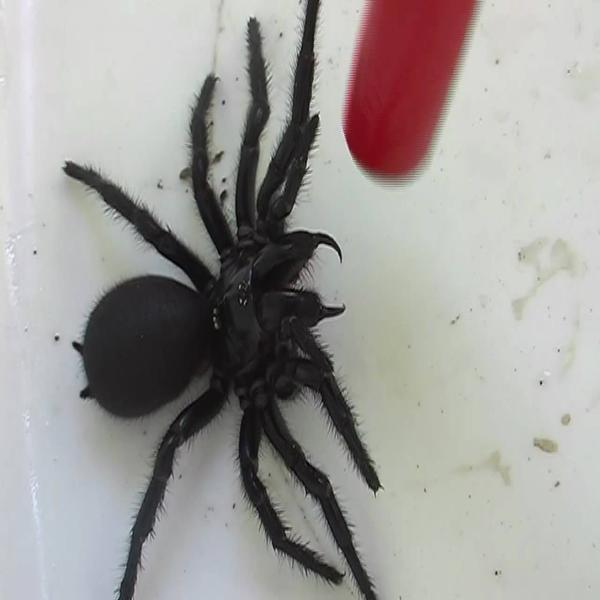Funnel Web Spider: (72, 16, 382, 591)
